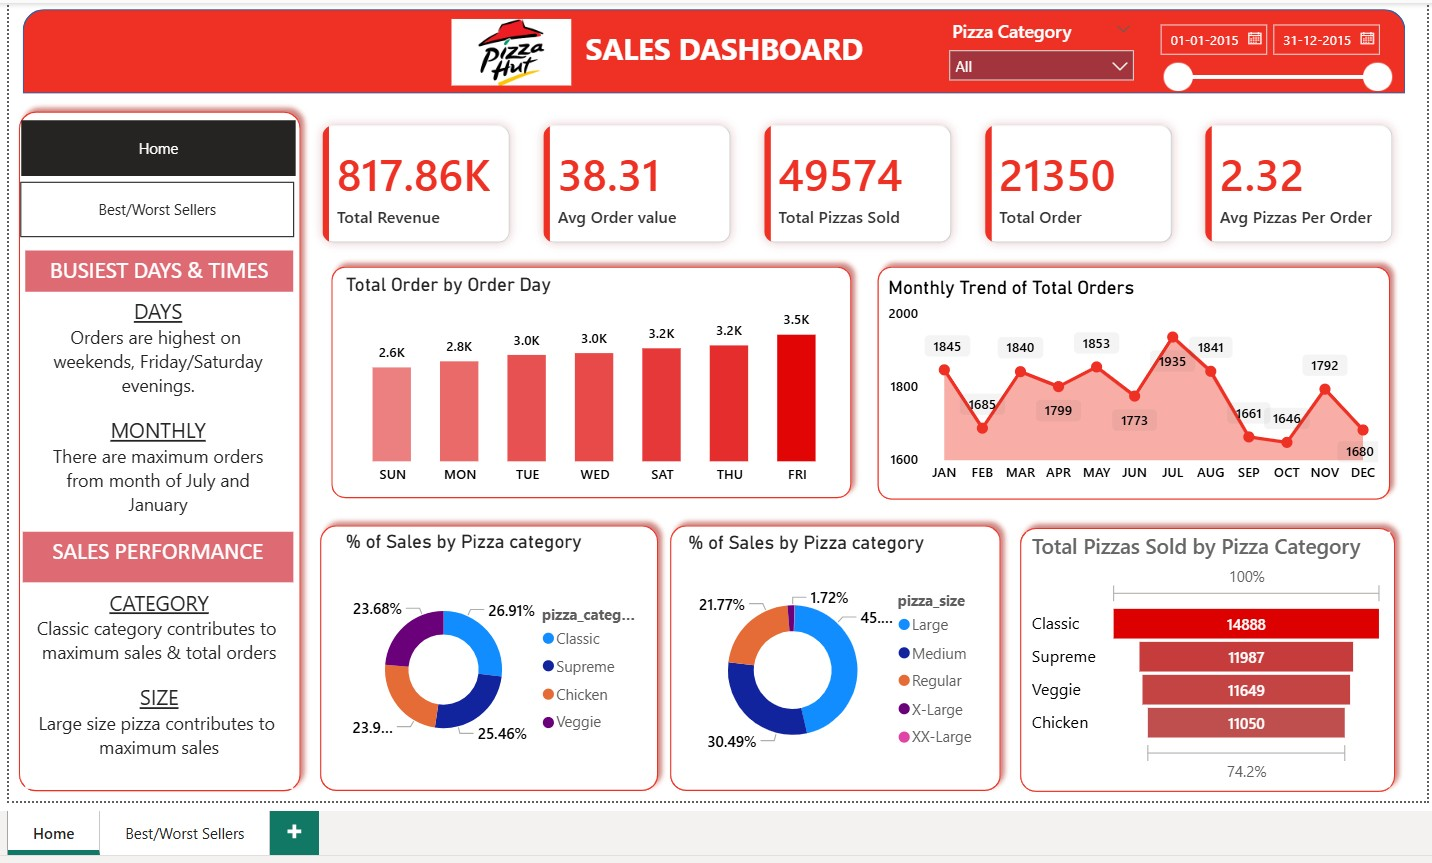

This screenshot's page, from the dashboard's own definition file:
{"tool":"powerbi","page":{"name":"Home","canvas":[1280,720],"ordinal":0},"visuals":[{"type":"cardVisual","fields":{"Data":["pizza_sales.Total Revenue","pizza_sales.Avg Order value","pizza_sales.Total Pizzas Sold","pizza_sales.Total Order","pizza_sales.Avg Pizzas Per Order"]},"box":[254.7,82.7,1025.3,162.7],"z":0},{"type":"shape","box":[774.7,229.3,480,228],"z":1000},{"type":"shape","box":[12,5.3,1246.7,76],"z":2000},{"type":"textbox","box":[491.6,18.3,306.9,50.1],"z":3000},{"type":"shape","box":[281.3,229.3,486.7,226.7],"z":4000},{"type":"columnChart","fields":{"Category":["pizza_sales.Order Day"],"Y":["pizza_sales.Total Order"]},"box":[298.7,244,460,200],"z":5000},{"type":"areaChart","title":"Monthly Trend of Total Orders","fields":{"Category":["pizza_sales.Order Month"],"Y":["pizza_sales.Total Order"]},"box":[788,246.7,452,194.7],"z":6000},{"type":"shape","box":[272,462.7,322.7,257.3],"z":7000},{"type":"shape","box":[902.7,464,356,256],"z":8000},{"type":"donutChart","title":"% of Sales by Pizza category","fields":{"Category":["pizza_sales.pizza_category"],"Y":["pizza_sales.Total Revenue"]},"box":[298.7,476,278.7,232],"z":9000},{"type":"shape","box":[586.7,462.7,316,257.3],"z":10000},{"type":"donutChart","title":"% of Sales by Pizza category","fields":{"Y":["pizza_sales.Total Revenue"],"Category":["pizza_sales.pizza_size"]},"box":[608,477.3,278.7,230.7],"z":11000},{"type":"funnel","title":"Total Pizzas Sold by Pizza Category","fields":{"Y":["pizza_sales.Total Pizzas Sold"],"Category":["pizza_sales.pizza_category"]},"box":[917.3,477.3,328,230.7],"z":12000},{"type":"shape","box":[0,89.3,272,630.7],"z":13000},{"type":"textbox","box":[14.7,222.7,241.3,37.3],"z":14000},{"type":"textbox","box":[12,260,244,226.7],"z":15000},{"type":"textbox","box":[12,477.3,244,45.3],"z":16000},{"type":"textbox","box":[14.7,522.7,241.3,185.3],"z":17000},{"type":"slicer","fields":{"Values":["pizza_sales.pizza_category"]},"box":[837.3,9.3,186.7,66.7],"z":18000},{"type":"slicer","fields":{"Values":["pizza_sales.order_date"]},"box":[1025.3,9.3,229.3,73.3],"z":19000},{"type":"pageNavigator","box":[11.2,106.2,247.5,50],"z":20000},{"type":"pageNavigator","box":[10,161.2,247.5,50],"z":21000},{"type":"image","box":[398.6,0,107.6,89.3],"z":22000}]}

Visuals, with their boxes on the page's 1280x720 design canvas (x1, y1, x2, y2). These are canvas units, not pixel positions in the 1432x863 screenshot, which may show the page scaled, cropped or inside an application window:
cardVisual - pizza_sales.Total Revenue x pizza_sales.Avg Order value: [255, 83, 1280, 245]
shape: [775, 229, 1255, 457]
shape: [12, 5, 1259, 81]
textbox: [492, 18, 798, 68]
shape: [281, 229, 768, 456]
columnChart - pizza_sales.Order Day x pizza_sales.Total Order: [299, 244, 759, 444]
"Monthly Trend of Total Orders" areaChart: [788, 247, 1240, 441]
shape: [272, 463, 595, 720]
shape: [903, 464, 1259, 720]
"% of Sales by Pizza category" donutChart: [299, 476, 577, 708]
shape: [587, 463, 903, 720]
"% of Sales by Pizza category" donutChart: [608, 477, 887, 708]
"Total Pizzas Sold by Pizza Category" funnel: [917, 477, 1245, 708]
shape: [0, 89, 272, 720]
textbox: [15, 223, 256, 260]
textbox: [12, 260, 256, 487]
textbox: [12, 477, 256, 523]
textbox: [15, 523, 256, 708]
slicer - pizza_sales.pizza_category: [837, 9, 1024, 76]
slicer - pizza_sales.order_date: [1025, 9, 1255, 83]
pageNavigator: [11, 106, 259, 156]
pageNavigator: [10, 161, 258, 211]
image: [399, 0, 506, 89]
